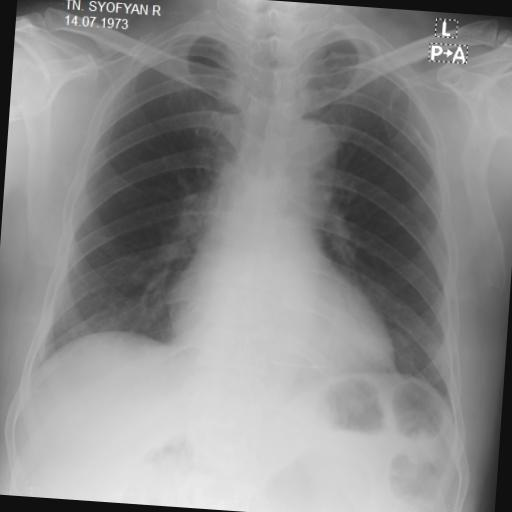kardiomegali: (11, 0, 491, 429)
